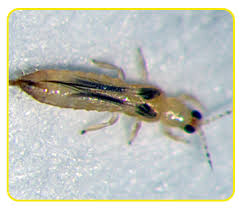Thrips: (12, 50, 215, 167)
